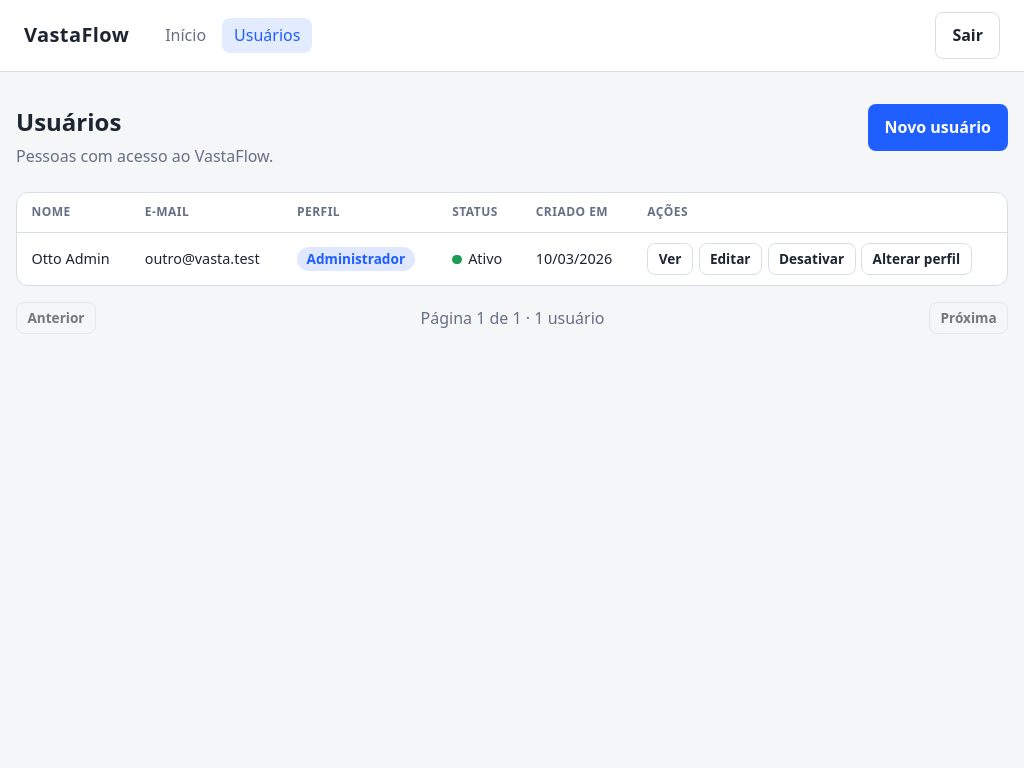
Test: ativar/desativar e perfil › mostra a recusa do backend (ultimo ADMIN) em vez de fingir sucesso
Click the button "Desativar" at (812, 259), box left=768, top=243, right=856, bottom=275
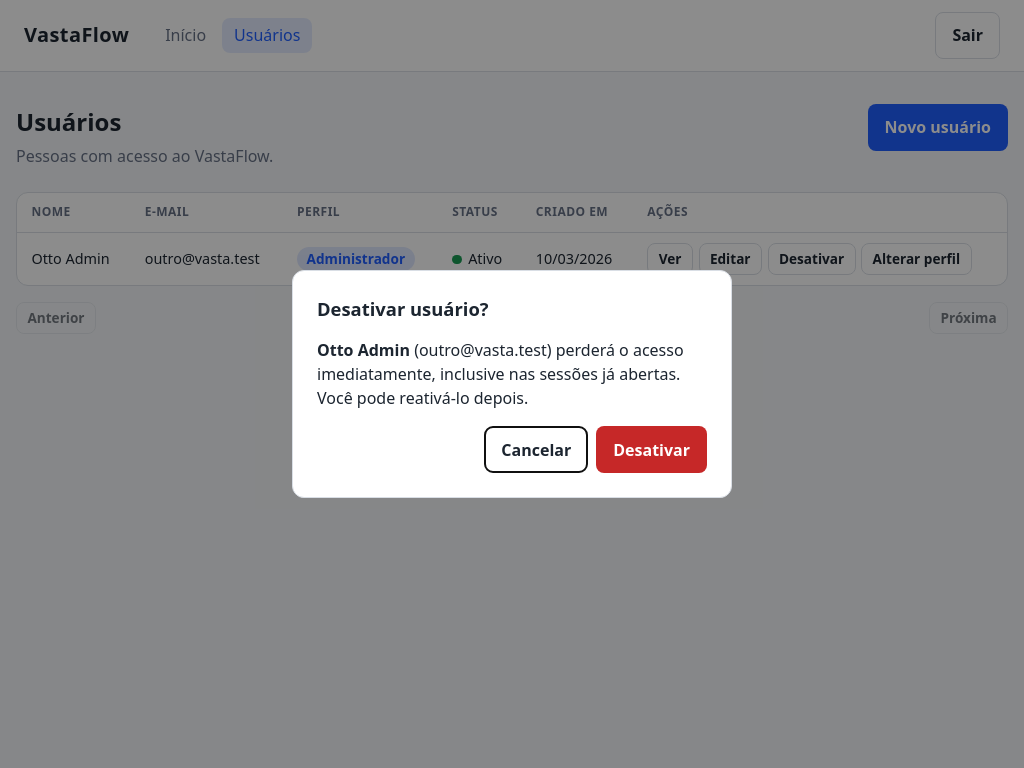
Click the button "Desativar" at (652, 450), box left=596, top=426, right=707, bottom=473
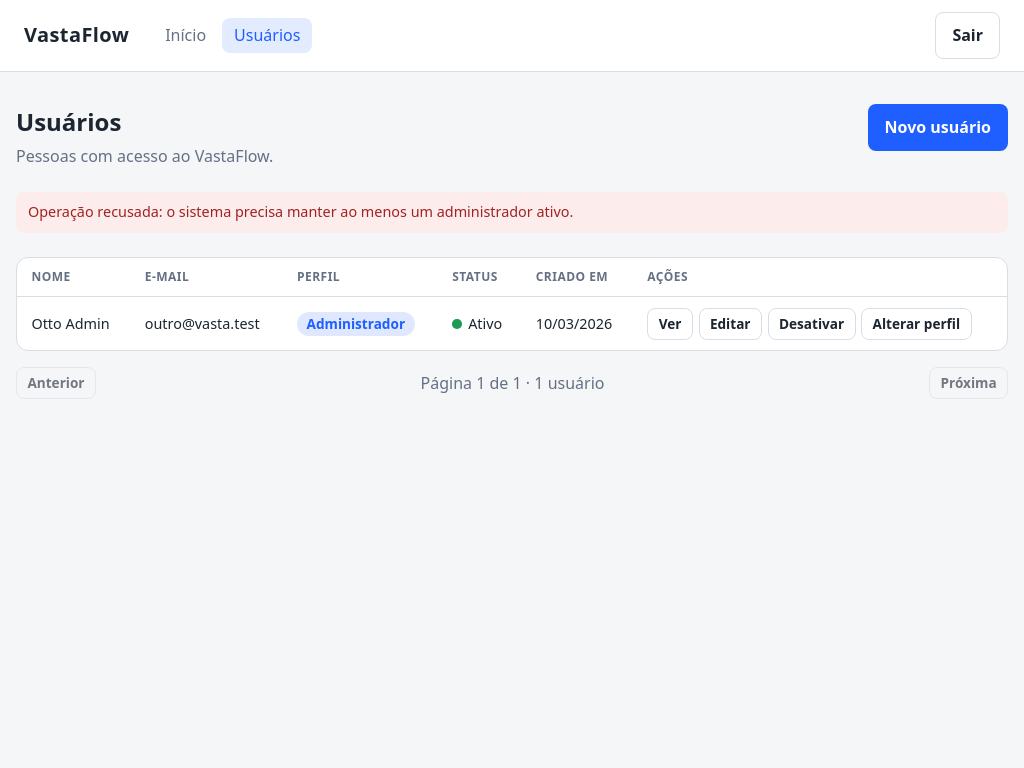
Check: the message shows "ao menos um administrador ativo", box left=28, top=202, right=573, bottom=221
